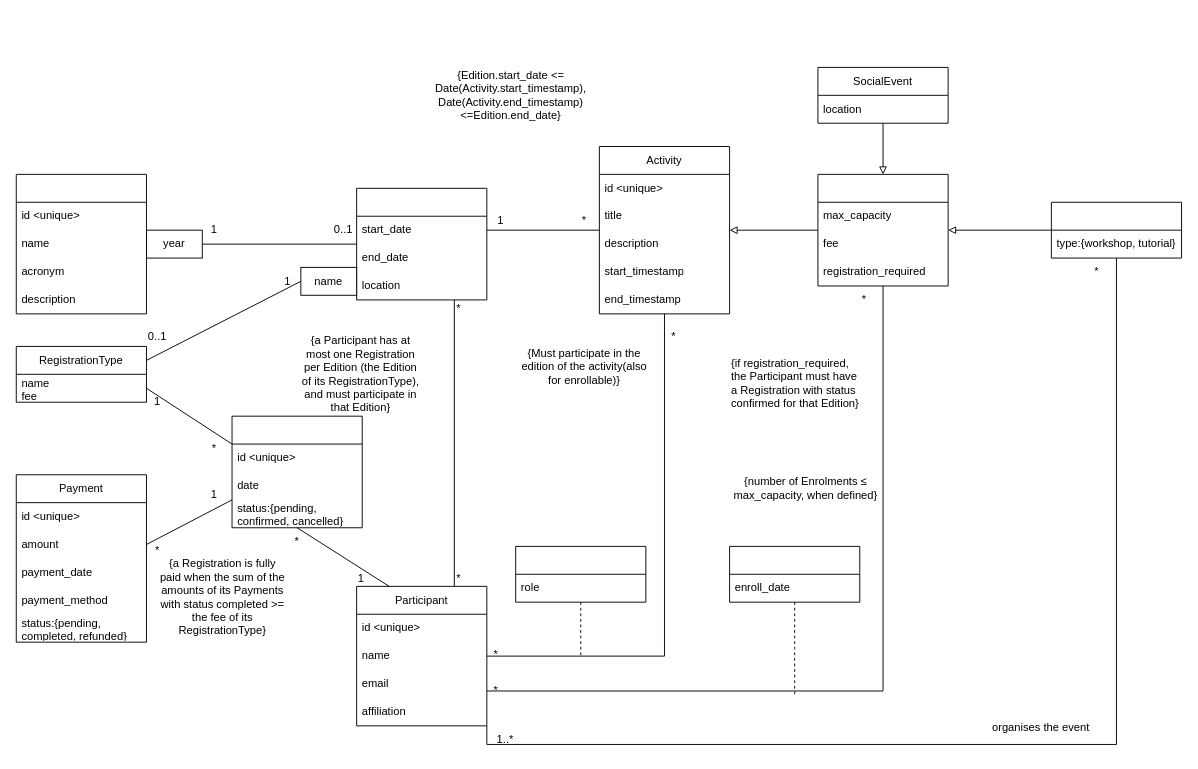
Some shapes in this 1198 by 769 pixel diagram are drawn without their labels. The shapes that lost their labels are listed below. From the top down, each one's box as (x1, y1, x2, y2) in pixels, then its label:
(15, 173, 146, 314): Conference
(356, 187, 487, 300): Edition
(817, 173, 948, 286): Enrollable
(1050, 201, 1182, 258): OrganisedActivity
(231, 415, 362, 528): Registration
